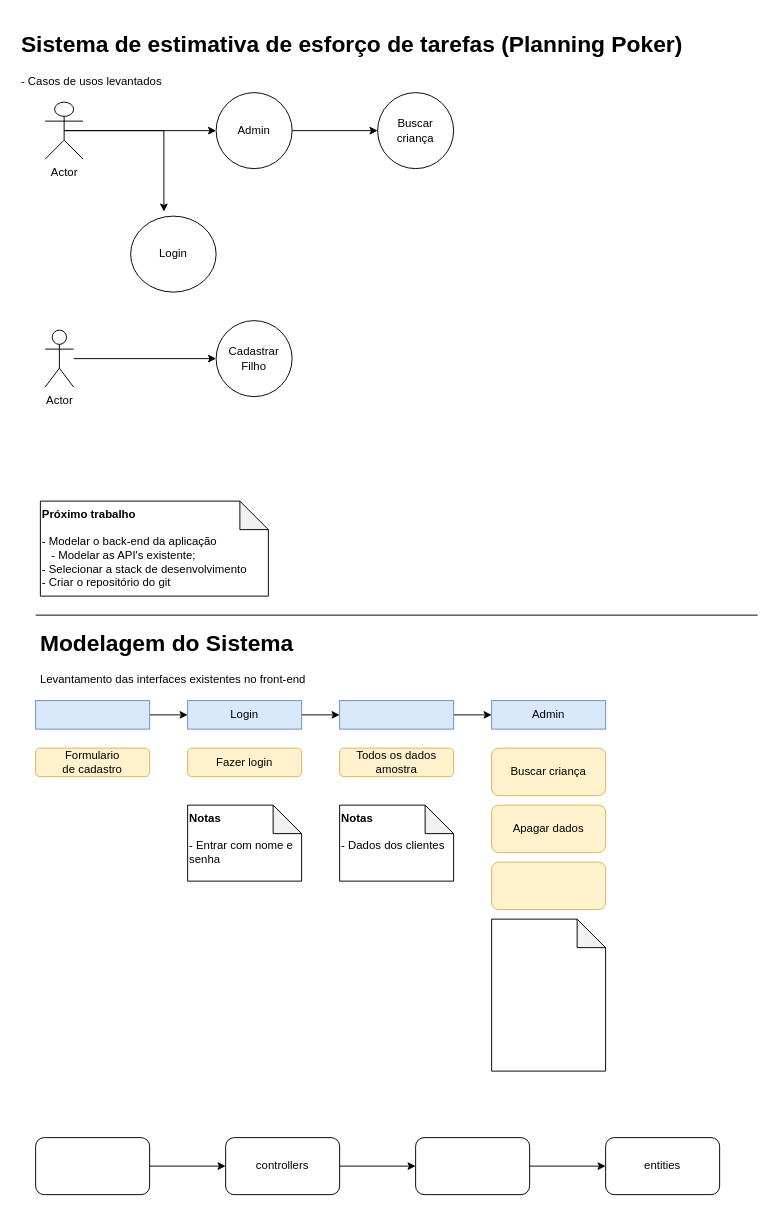
This 775x1211 diagram has some shape labels left out. Each missing label, with the box of its shape:
Home: (35, 700, 150, 729)
Notas: (491, 918, 606, 1071)
Painel: (339, 700, 454, 729)
routes: (35, 1137, 150, 1195)
services: (415, 1137, 530, 1195)
